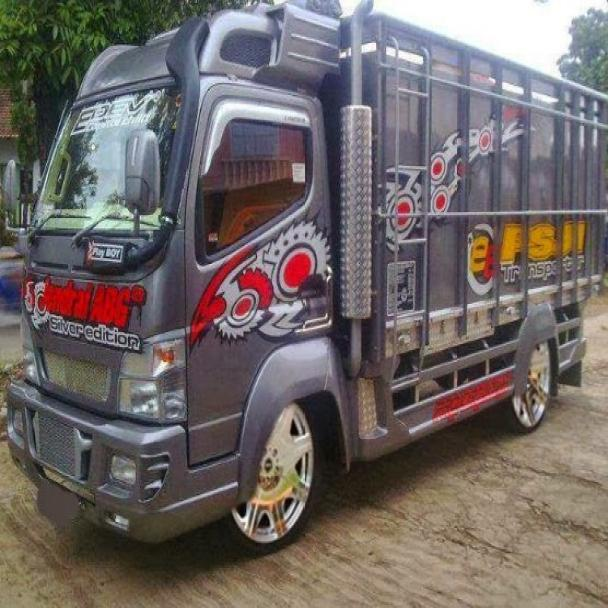Mobil: (8, 0, 604, 549)
